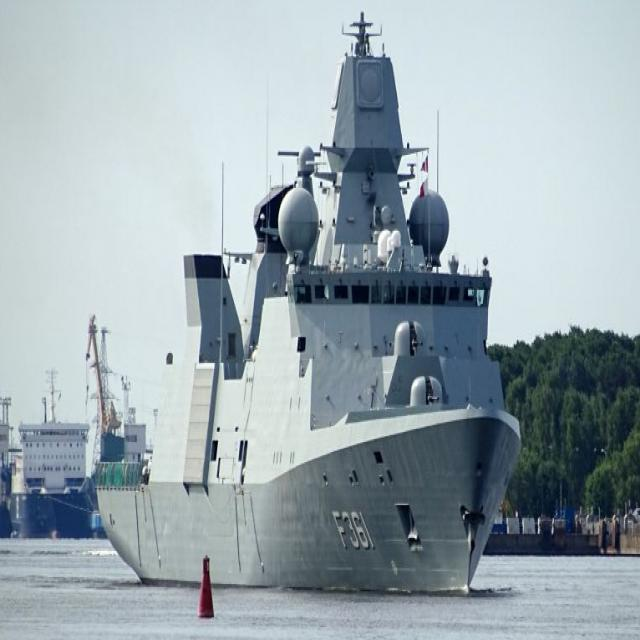Fragata: (86, 3, 527, 605)
